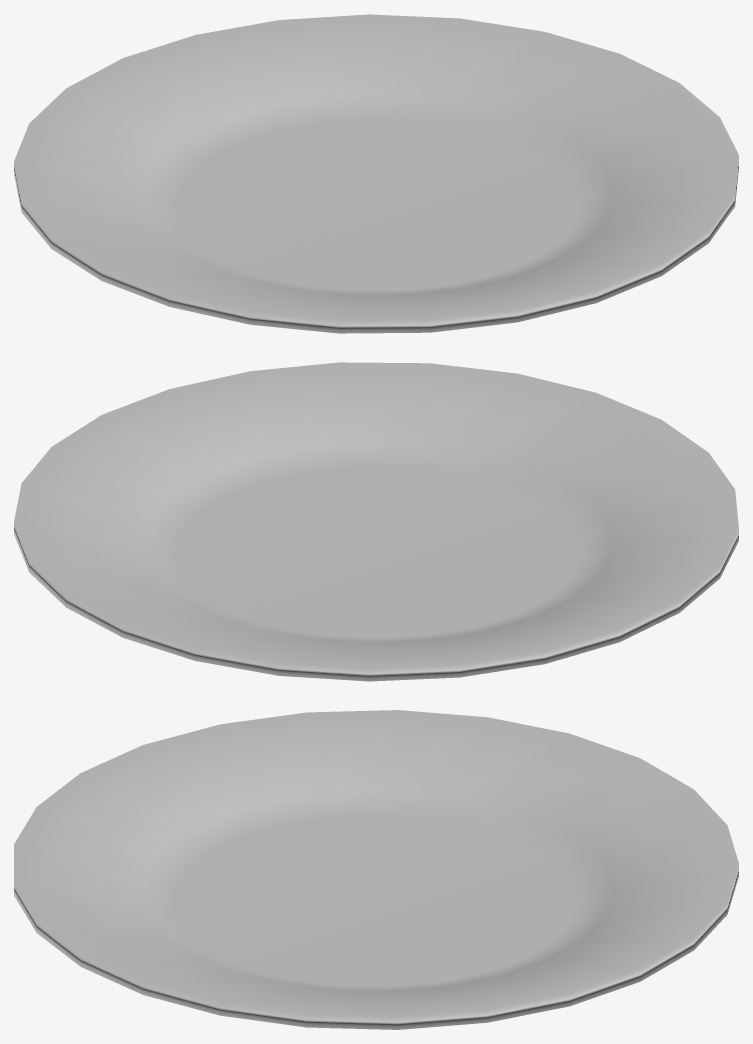
File: _late.fbx
3 renders of one model, top to bottom at view 1: azimuth 30°, elevation 25°; view 2: azimuth 150°, elevation 25°; view 3: azimuth 270°, elevation 25°, orthographic.
Parts seen in each view (by area): view 1: Cylinder.078; view 2: Cylinder.078; view 3: Cylinder.078.
Boxes of the visible parts, <box> form: Cylinder.078: <box>14,14,738,333</box>; Cylinder.078: <box>14,362,738,681</box>; Cylinder.078: <box>14,710,738,1029</box>.
Size of the model in its own units: 41.11 by 3.17 by 41.03.
